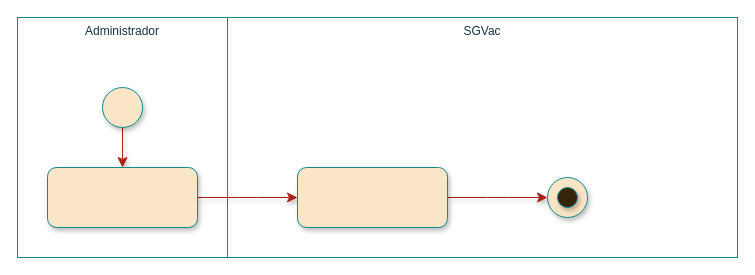
Some shapes in this 755 by 275 pixel diagram are drawn without their labels. The shapes that lost their labels are listed below. From the top down, each one's centre as x and y in pixels, then its label:
At pixel 123 198: "Selecciona publicar vacante".
At pixel 373 198: "Publica la vacante".
